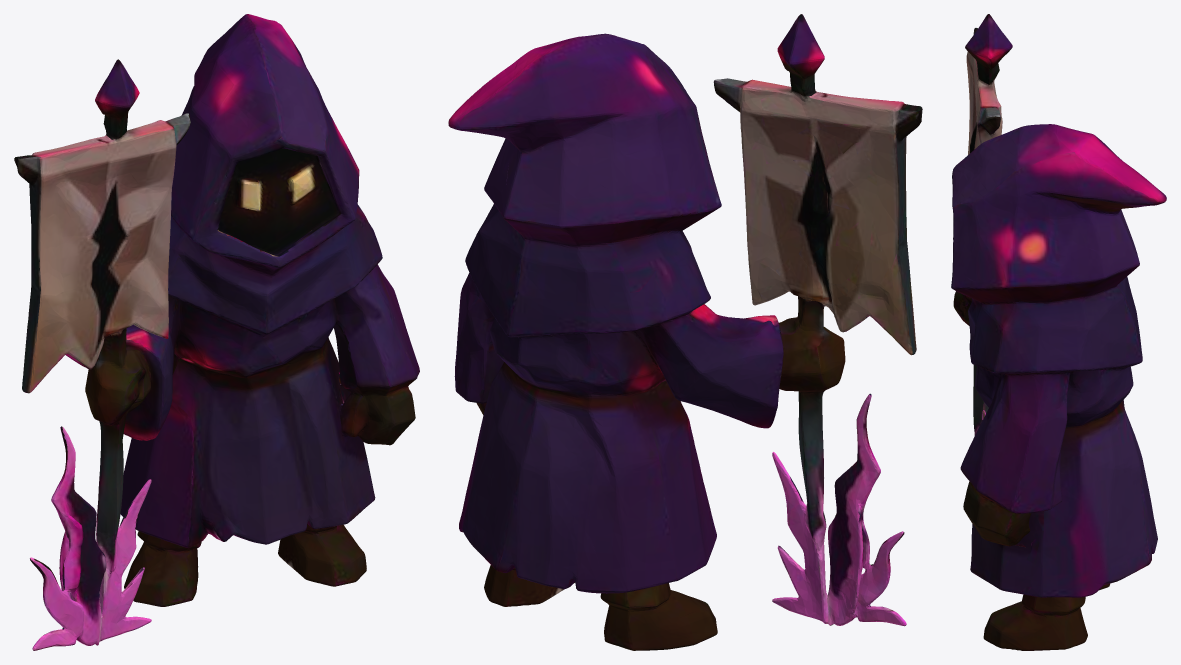
File: SEAMKEEPER.glb
3 renders of one model, left to right at view 1: azimuth 30°, elevation 25°; view 2: azimuth 150°, elevation 25°; view 3: azimuth 270°, elevation 25°, orthographic. The views are drawn at different scales.
Parts seen in each view (by area): view 1: SEAMKEEPER; view 2: SEAMKEEPER; view 3: SEAMKEEPER.
Part boxes in pixels (bbox=[...]): SEAMKEEPER: bbox=[14, 14, 419, 650]; SEAMKEEPER: bbox=[448, 14, 922, 650]; SEAMKEEPER: bbox=[951, 14, 1166, 650].
Size of the model in its own units: 1.52 by 1.99 by 0.7445.
Materials: 1 (1 with a texture image).
